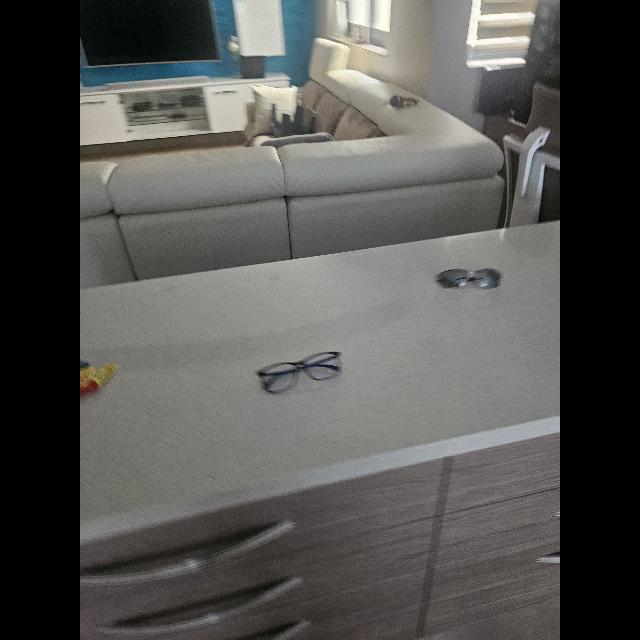Sunglasses: (436, 268, 502, 288)
glasses: (256, 351, 342, 393)
